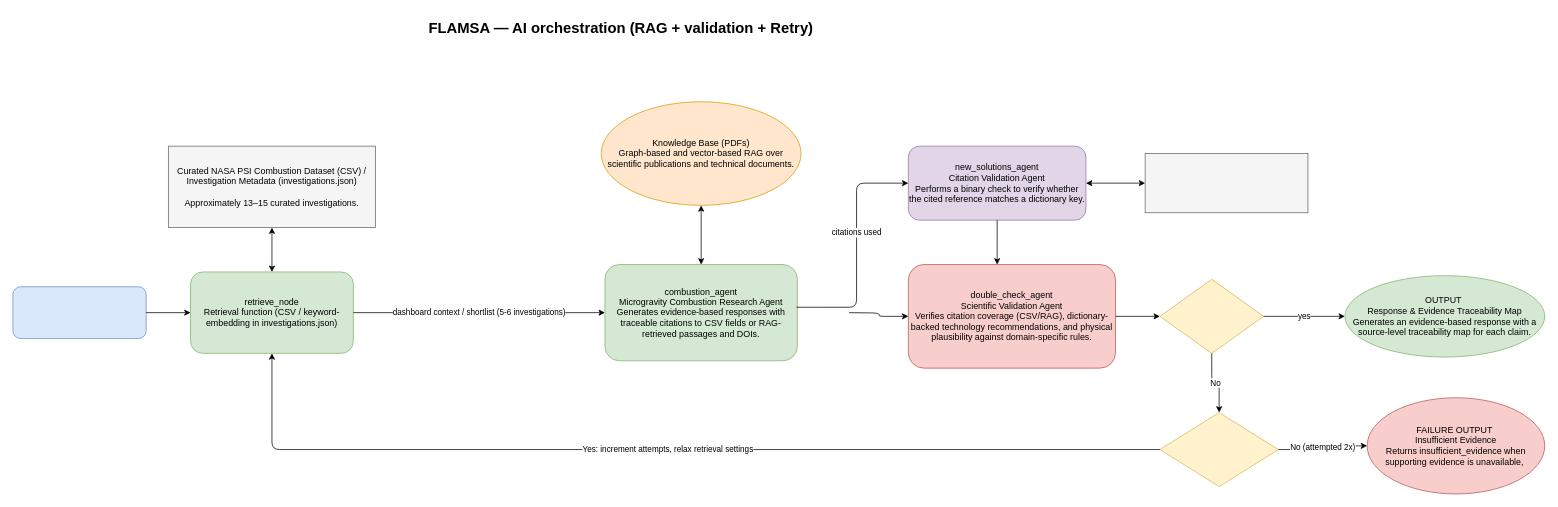
Some shapes in this 1558 by 507 pixel diagram are drawn without their labels. The centre of each missing label's shape, as x and y in pixels:
"Approved?" belongs at [1211,316].
"attempts < 2?" belongs at [1218,449].
"Key–Value Dictionary Maps investigations to mock derived technologies." belongs at [1226,183].
"User question about the scenario" belongs at [79,312].
